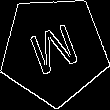M_S: (25, 18, 84, 82)
